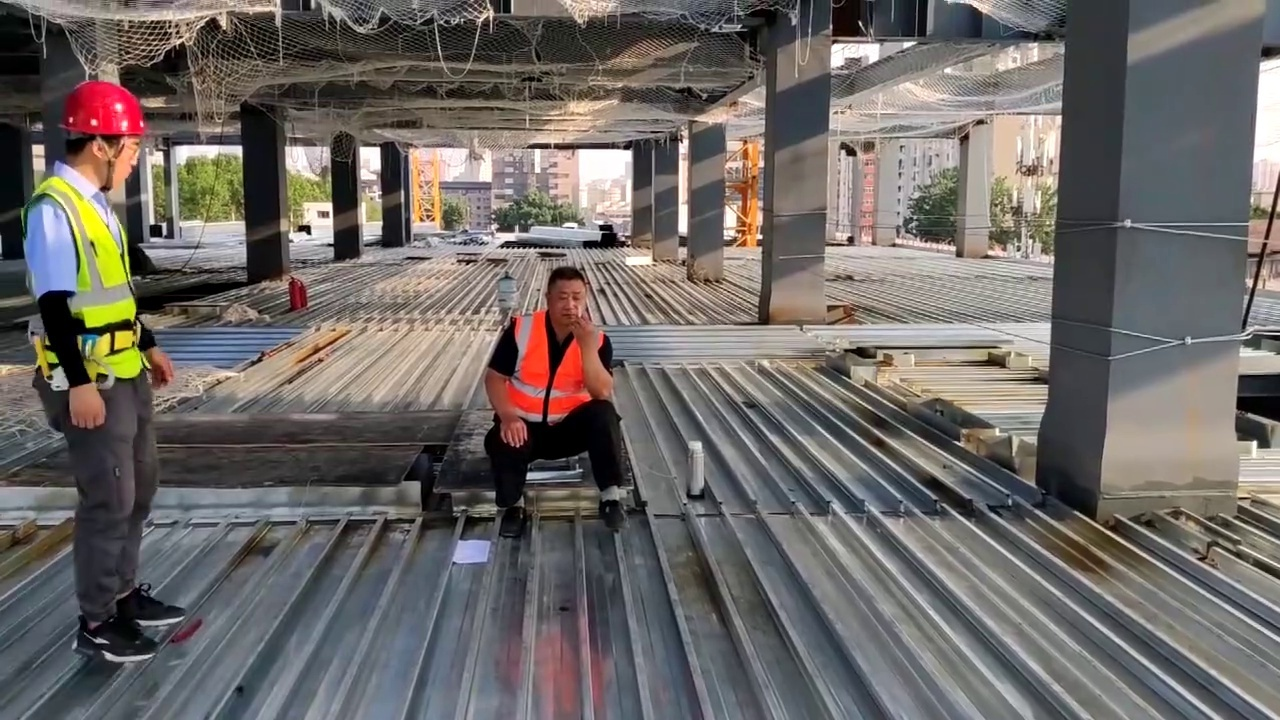head: (18, 74, 157, 270), (517, 263, 605, 363)
helmet: (57, 76, 145, 141)
people: (12, 65, 177, 687), (478, 253, 648, 542)
